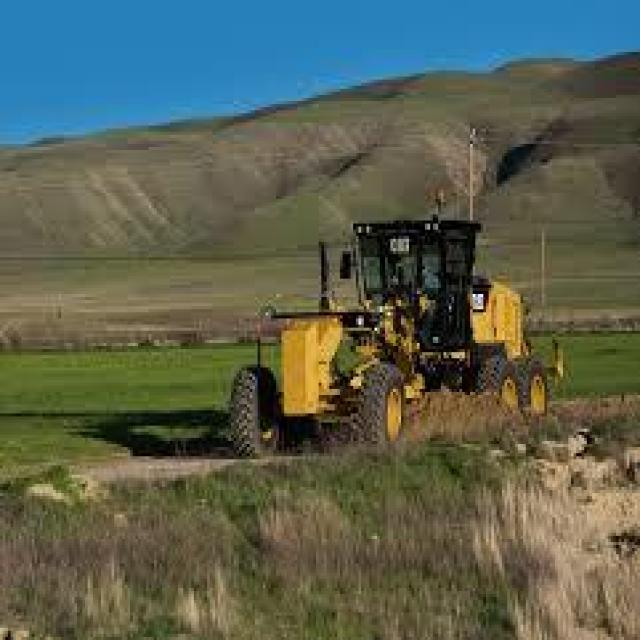Grader: (162, 180, 590, 466)
